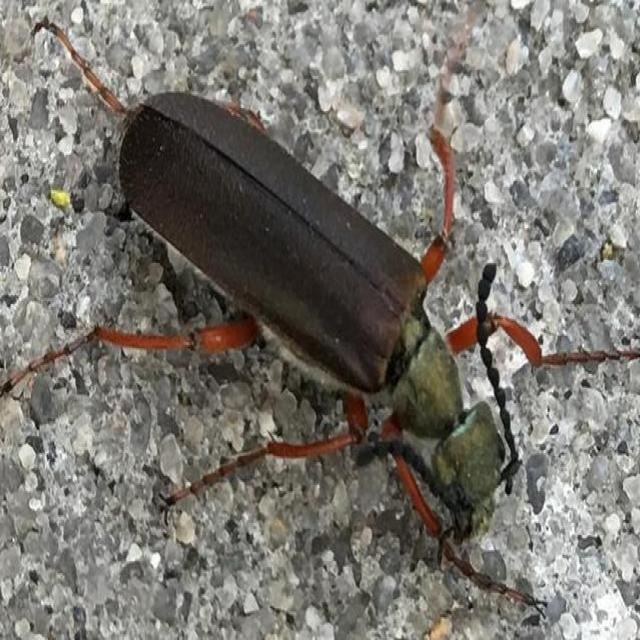BlisterBeetle-Adult-: (56, 43, 584, 598)
